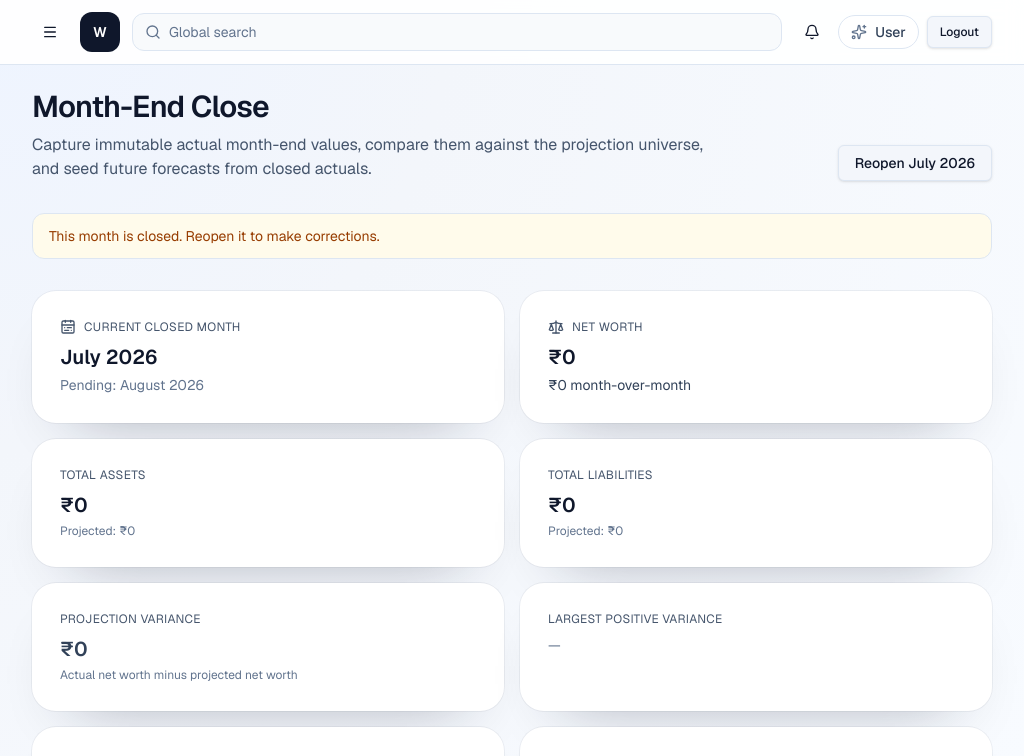
MonthEndClosePage › requires reopen reason
Click the button "Reopen July 2026" at (915, 163), box [838,145,992,181]
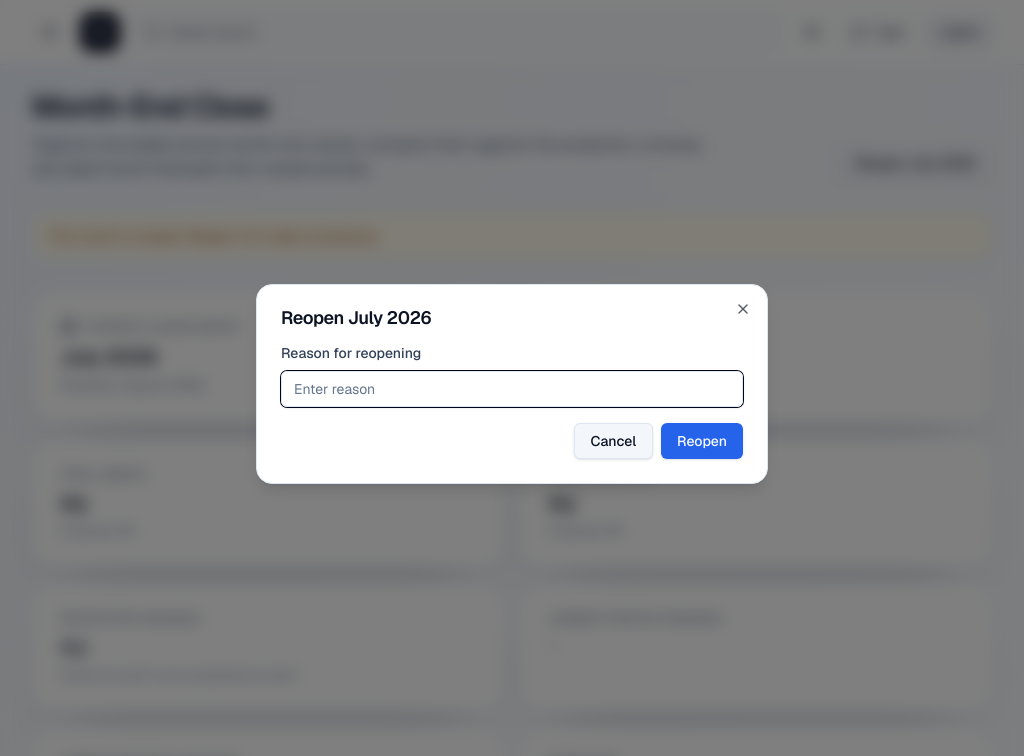
Click the button "Reopen" at (702, 441), box [661,423,743,459]
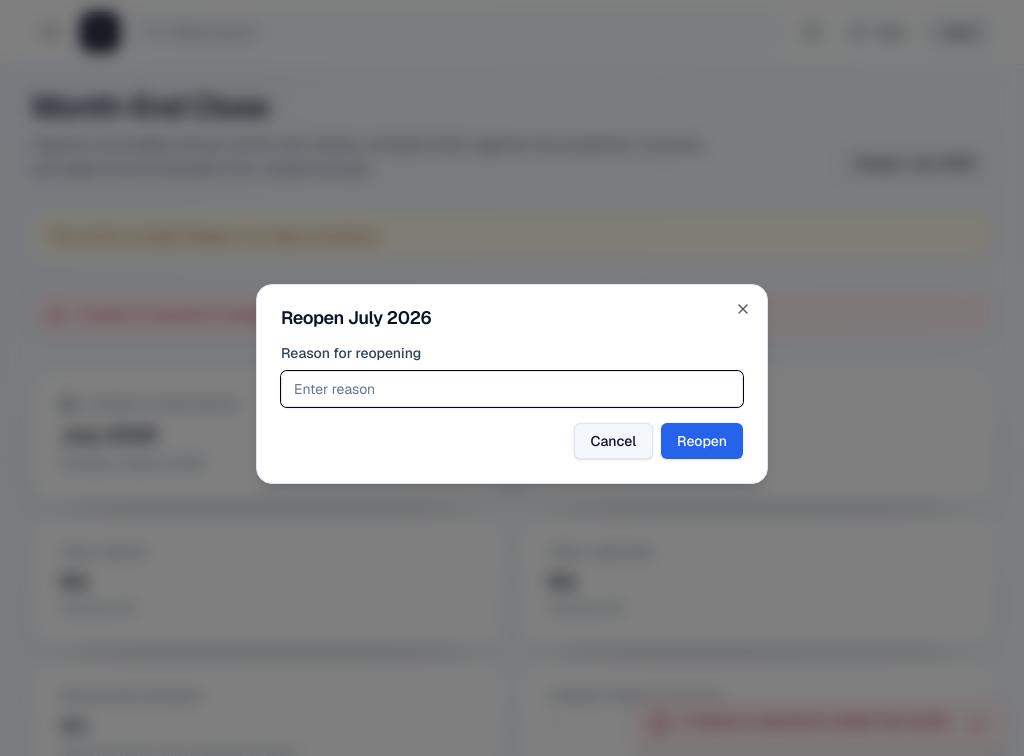
Result: the text "A reason is required to reopen the month." is shown at [77,304,340,324]
